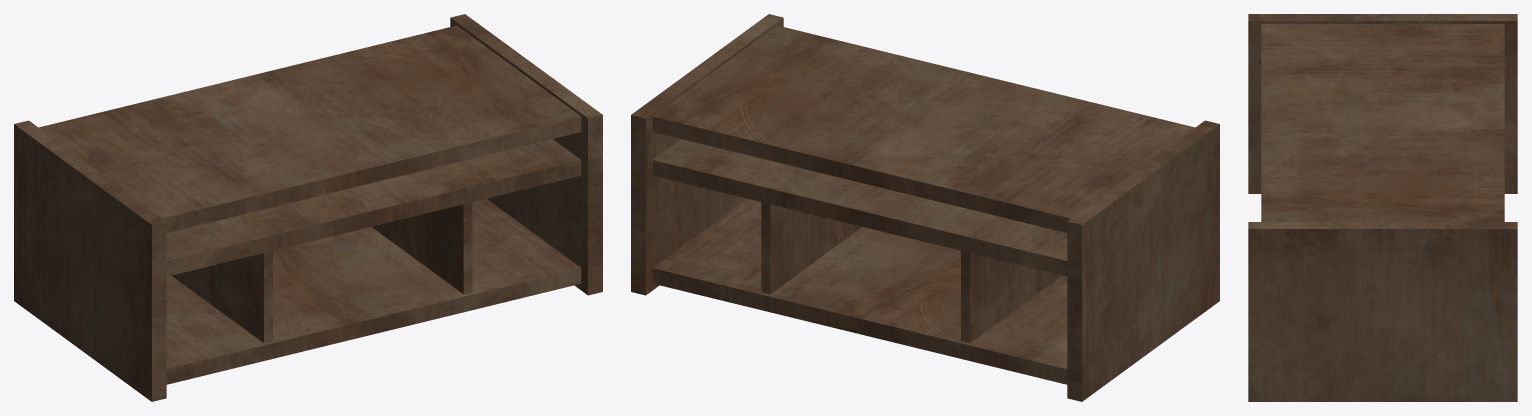
Rendered from Shelf_Small2.fbx.
The picture shows the model from 3 angles, left to right: view 1: azimuth 30°, elevation 25°; view 2: azimuth 150°, elevation 25°; view 3: azimuth 270°, elevation 25°; orthographic projection. The views are drawn at different scales.
Visible parts, largest first — view 1: Shelf_Small2; view 2: Shelf_Small2; view 3: Shelf_Small2.
Part boxes in pixels (<box>): Shelf_Small2: <box>14,14,602,401</box>; Shelf_Small2: <box>631,14,1219,401</box>; Shelf_Small2: <box>1248,14,1517,401</box>.
Bounding box in the file's own units: 104 × 38.98 × 55.04.
